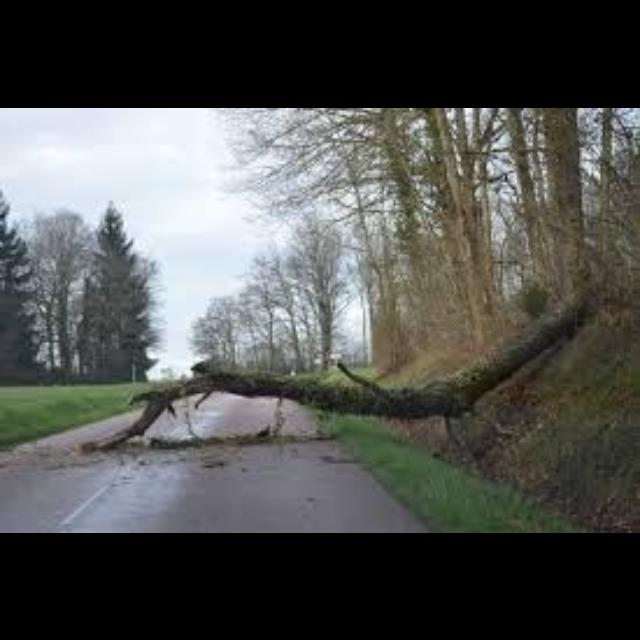Fallen Tree: (120, 269, 612, 441)
